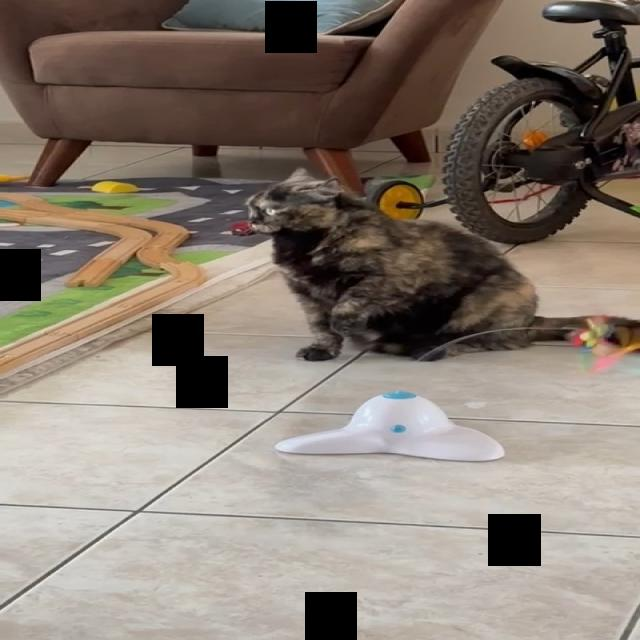authorized: (243, 167, 637, 362)
